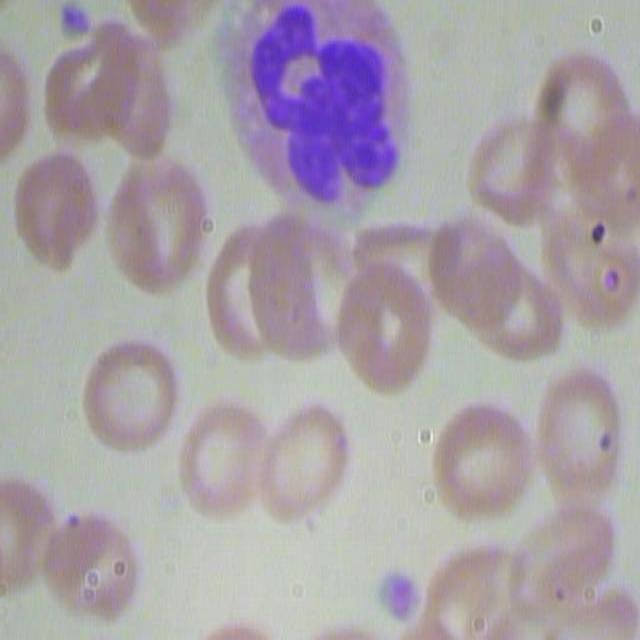RBC: (206, 204, 356, 370), (432, 204, 564, 367), (46, 4, 178, 159), (338, 215, 442, 392), (532, 173, 636, 334), (102, 156, 214, 298), (241, 392, 353, 522), (82, 326, 190, 460), (522, 360, 627, 491), (528, 46, 633, 177), (436, 391, 538, 521), (32, 505, 143, 624), (425, 524, 536, 637), (173, 396, 266, 520), (532, 501, 624, 618), (12, 151, 100, 271), (464, 116, 554, 230), (0, 468, 49, 604), (0, 37, 43, 159)
WBC: (235, 2, 408, 242)
platelets: (372, 563, 422, 636), (57, 12, 106, 63)
